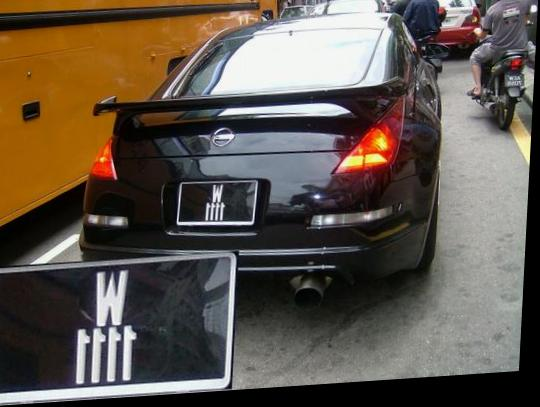License_Plate: (0, 252, 234, 400), (176, 177, 258, 235), (504, 73, 525, 87)
